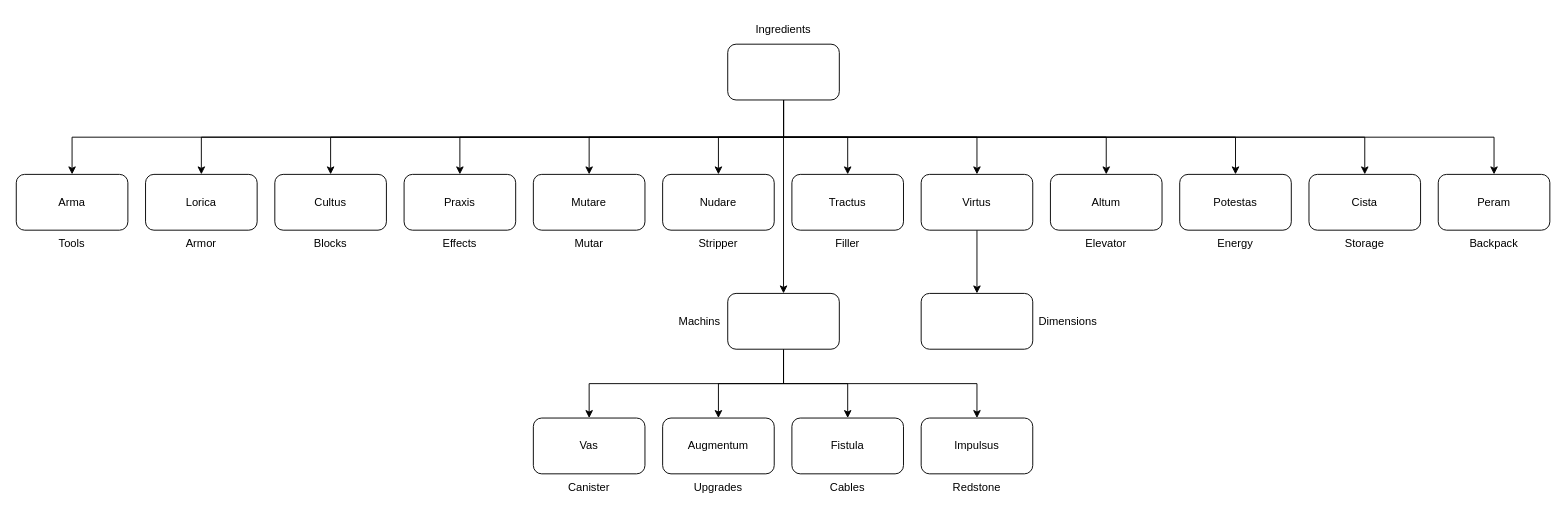
Image size: 1566x517. Some labels were removed from this diagram. The shapes that lost their labels are listed below. From the top down, each one's centre as x and y in pixels, then its label:
At point 783,71: "Materia".
At point 783,320: "Machinum".
At point 976,320: "Regnum".
